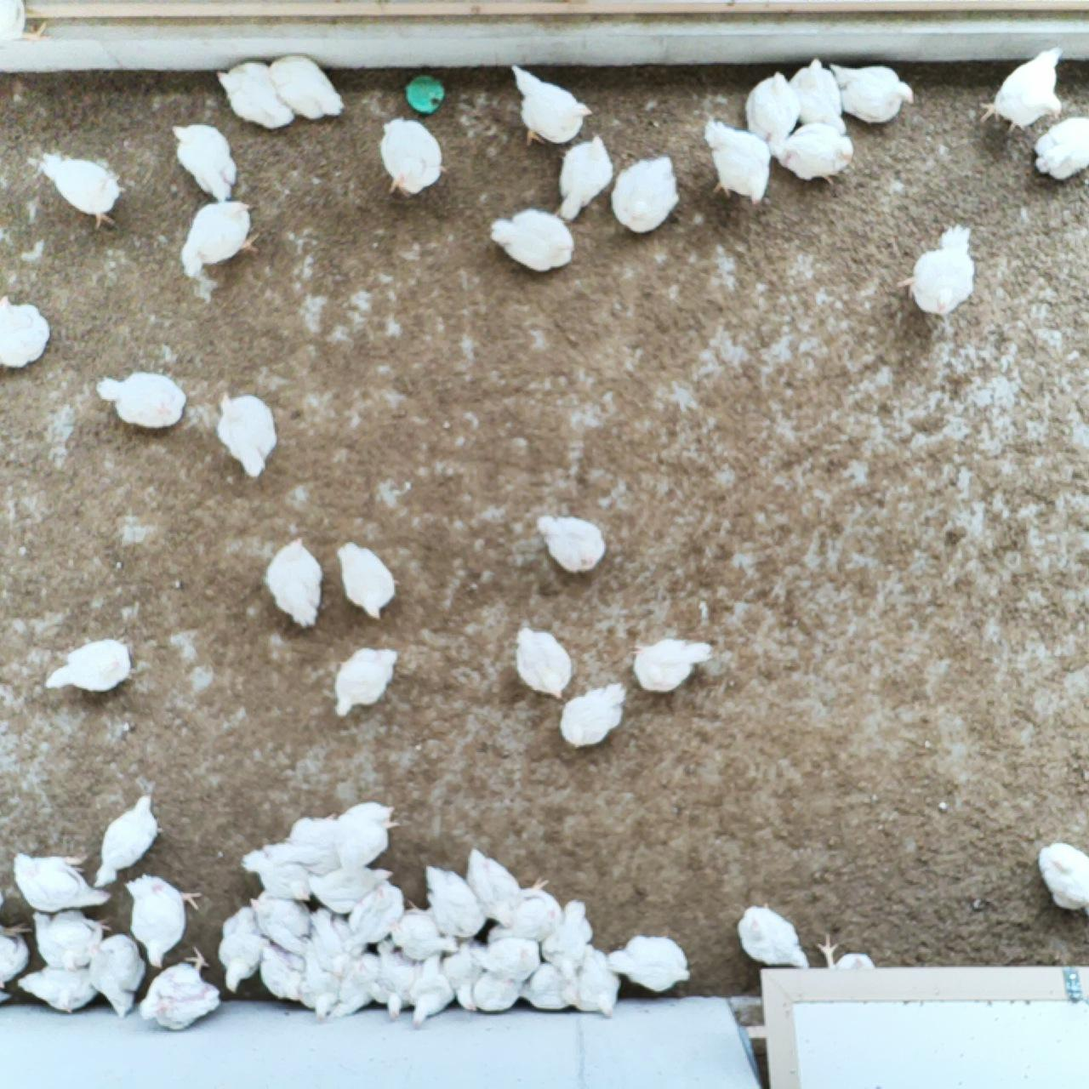chicken: (120, 865, 202, 971), (976, 43, 1067, 138), (895, 224, 978, 319), (138, 948, 221, 1042), (699, 114, 774, 208), (511, 61, 592, 147), (38, 151, 125, 231), (9, 848, 112, 915), (265, 810, 360, 882), (96, 791, 161, 895), (43, 630, 140, 698), (178, 198, 259, 279), (609, 151, 682, 237), (264, 50, 345, 126), (168, 118, 240, 203), (378, 115, 449, 201), (459, 839, 526, 929), (211, 58, 296, 128), (830, 62, 915, 131), (491, 209, 576, 276), (95, 369, 188, 430), (87, 930, 150, 1020), (331, 796, 399, 878), (553, 133, 614, 224), (605, 934, 694, 996), (631, 634, 717, 698), (739, 897, 810, 974), (217, 388, 277, 479), (265, 536, 325, 627), (30, 911, 115, 975), (329, 646, 400, 722), (780, 121, 861, 186), (335, 539, 399, 620), (491, 878, 562, 948), (556, 680, 629, 748), (218, 904, 271, 996), (745, 72, 802, 157), (813, 929, 881, 999), (1031, 838, 1089, 919), (538, 506, 607, 574), (511, 622, 571, 700), (421, 864, 485, 937), (787, 59, 847, 136), (11, 965, 102, 1015), (543, 894, 594, 979), (310, 863, 395, 913), (392, 898, 458, 962), (251, 885, 311, 955), (346, 880, 401, 954), (0, 293, 52, 371), (562, 943, 614, 1021), (239, 848, 313, 901), (329, 946, 381, 1021), (372, 942, 420, 1022), (306, 901, 353, 982), (411, 954, 458, 1032), (1033, 115, 1089, 180), (252, 938, 308, 1003), (289, 949, 339, 1019), (446, 932, 487, 1016), (473, 931, 539, 982), (519, 959, 574, 1015), (0, 914, 32, 990), (474, 966, 520, 1012)
